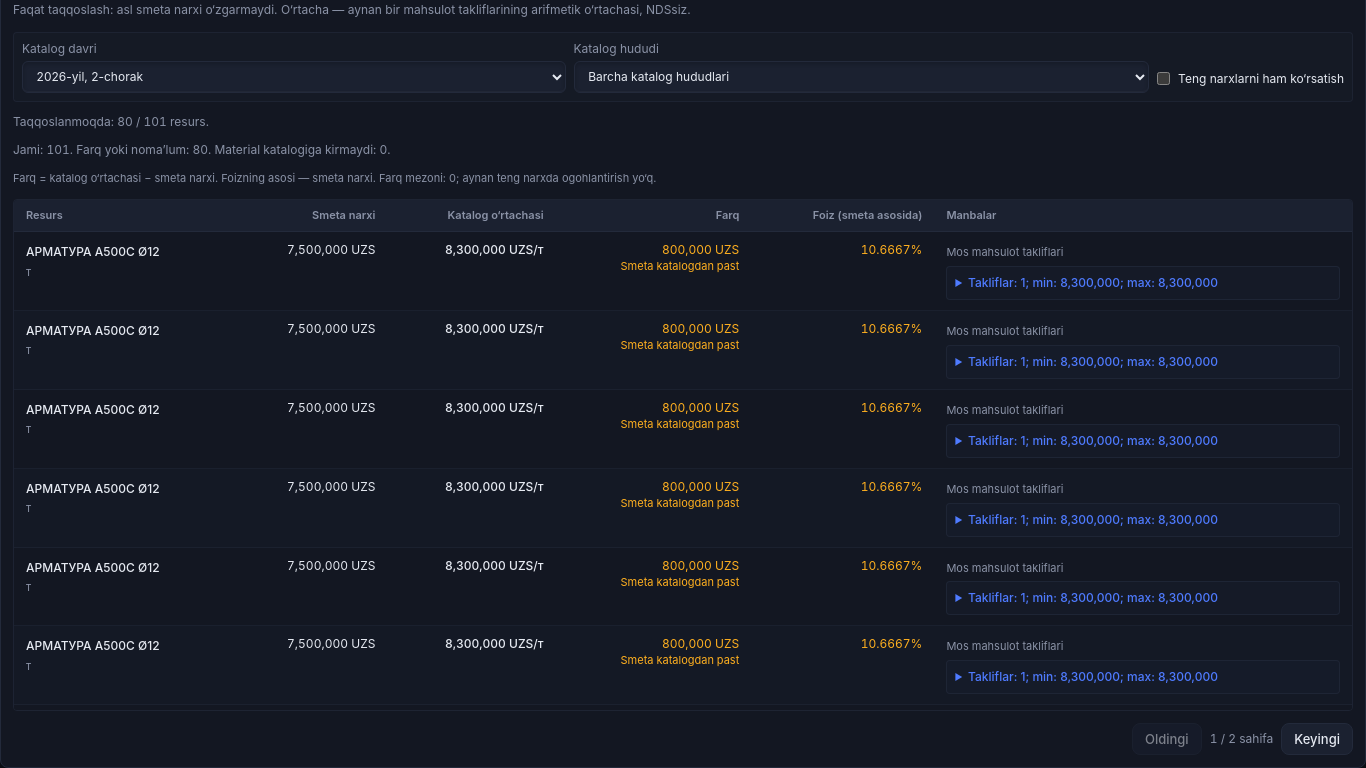
Test case: hides exactly equal prices by default and paginates many exceptions safely
(page scrolled)
expect the text "1 / 2 sahifa" is shown: met, box [1210,731,1273,747]
Click the button "Keyingi": (1317, 739) [1281,723,1353,755]
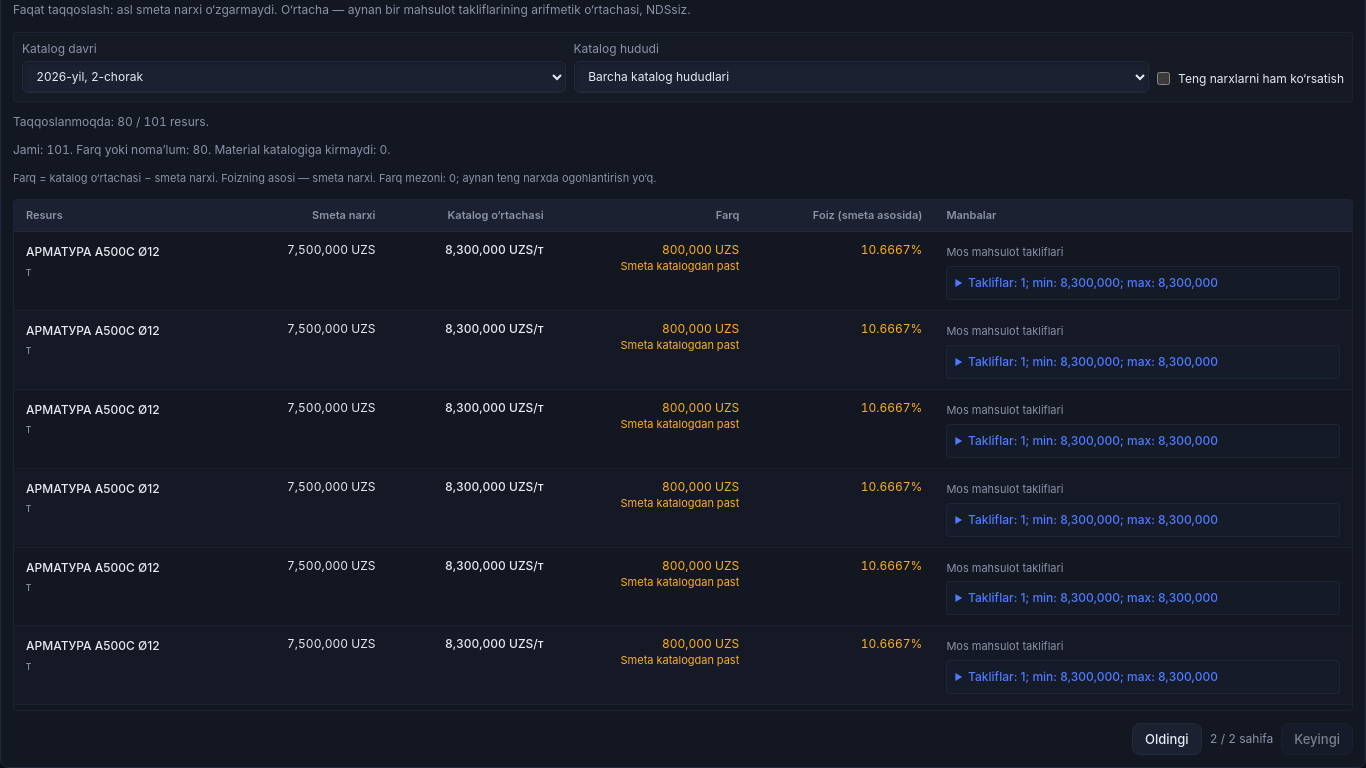
expect the text "2 / 2 sahifa" is shown: met, box [1210,731,1273,747]
Click the checkbox: (1164, 78) [1157,72,1170,85]
(page scrolled)
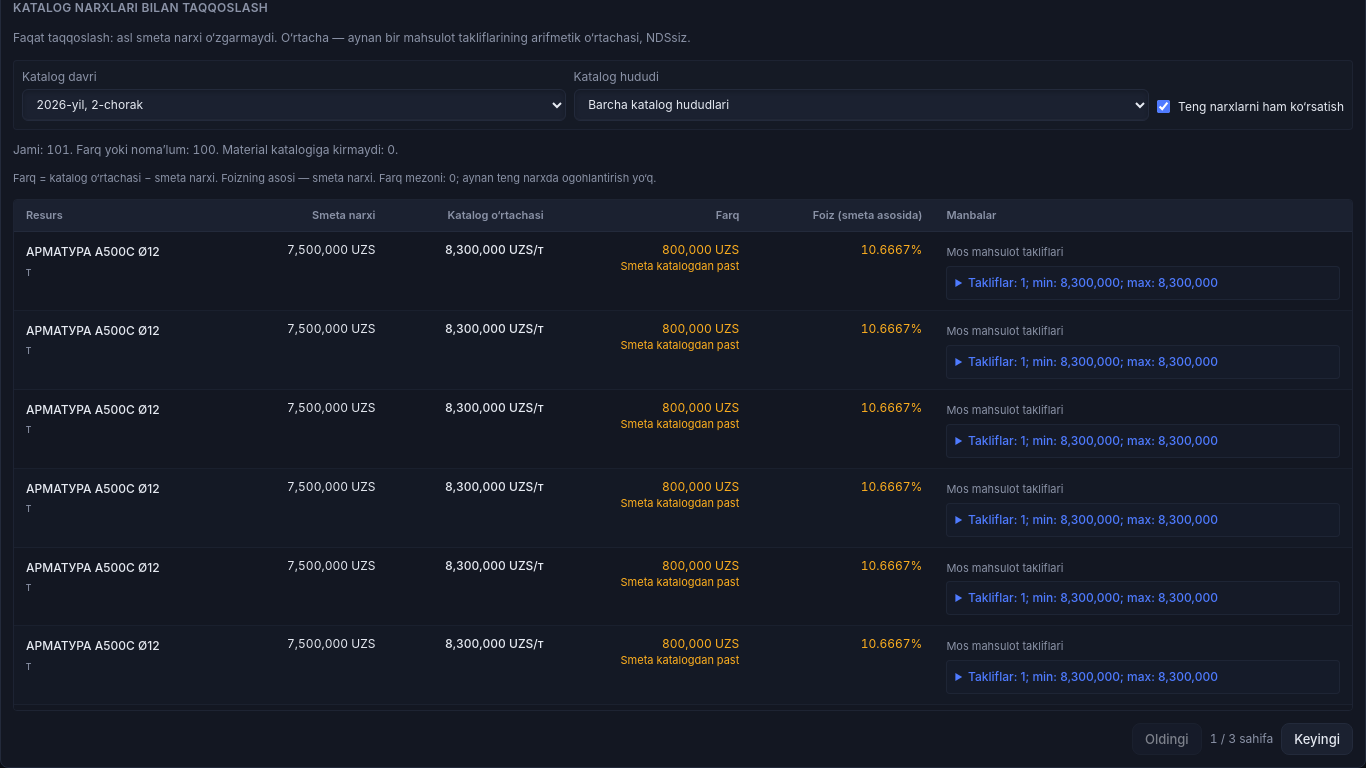
expect the text "1 / 3 sahifa" is shown: met, box [1210,731,1273,747]
